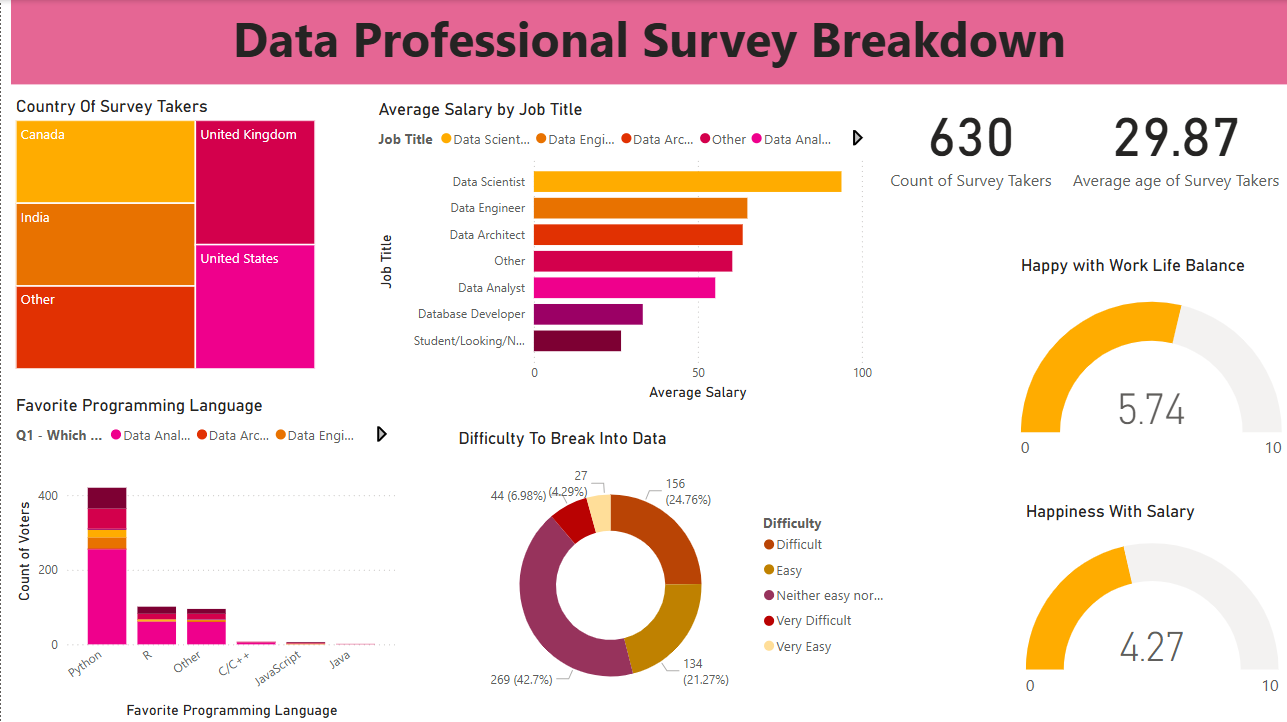

Layout of this report page (visuals, bound fields, positions):
{"tool":"powerbi","page":{"name":"Page 1","canvas":[1280,720],"ordinal":0},"visuals":[{"type":"textbox","box":[9.6,0,1270.7,83.7],"z":0},{"type":"card","fields":{"Values":["CountNonNull(Data Professional Survey.Unique ID)"]},"box":[870,83.7,188,149.6],"z":1000},{"type":"card","fields":{"Values":["Avg(Data Professional Survey.Q10 - Current Age)"]},"box":[1058,85.1,222.3,148.2],"z":2000},{"type":"filledMap","title":"Average Salary by Job Title","fields":{"Series":["Data Professional Survey.Q11 - Which Country do you live in?.1"]},"box":[705.5,374.5,463.1,284.7],"z":3000},{"type":"columnChart","title":"Favorite Programming Language","fields":{"Category":["Data Professional Survey.Q5 - Favorite Programming Language.1"],"Y":["CountNonNull(Data Professional Survey.Unique ID)"],"Series":["Data Professional Survey.Q1 - Which Title Best Fits your Current Role?.1"]},"box":[9.5,498.5,341.9,222],"z":4000},{"type":"barChart","title":"Average Salary by Job Title","fields":{"Category":["Data Professional Survey.Q1 - Which Title Best Fits your Current Role?.1"],"Y":["Avg(Data Professional Survey.Average Salary)"],"Series":["Data Professional Survey.Q1 - Which Title Best Fits your Current Role?.1"]},"box":[9.5,84.4,603.4,373.2],"z":4001}]}

Visuals, with their boxes in screenshot pixels (x1, y1, x2, y2), scaled from the page's 1280x720 canvas onto the 1287x722 screenshot:
textbox: bbox(10, 0, 1286, 84)
card - CountNonNull(Data Professional Survey.Unique ID): bbox(875, 84, 1064, 234)
card - Avg(Data Professional Survey.Q10 - Current Age): bbox(1064, 85, 1286, 234)
"Average Salary by Job Title" filledMap: bbox(709, 376, 1175, 661)
"Favorite Programming Language" columnChart: bbox(10, 500, 353, 721)
"Average Salary by Job Title" barChart: bbox(10, 85, 616, 459)
